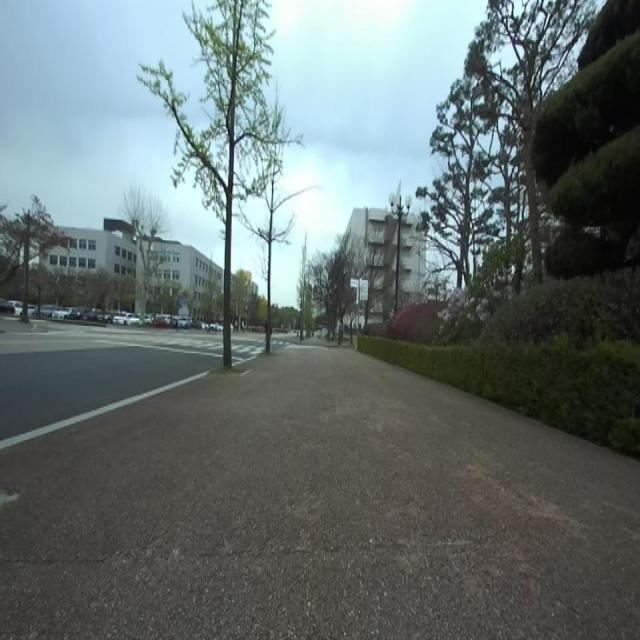sidewalk: (0, 348, 640, 640), (1, 371, 210, 449)
